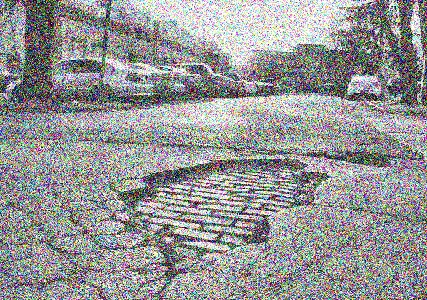pothole: (110, 155, 327, 278), (332, 150, 397, 168)
